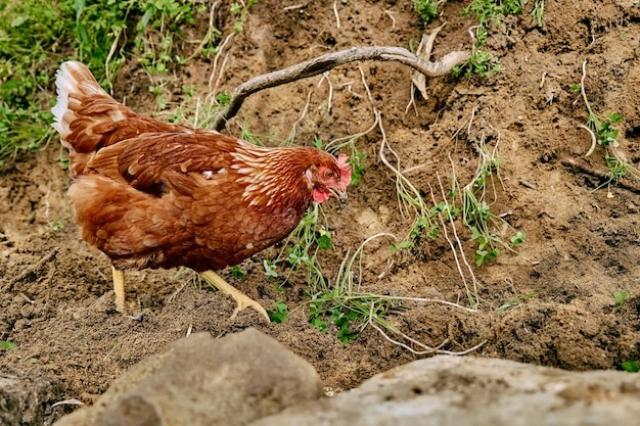Chicken: (56, 60, 352, 319)
